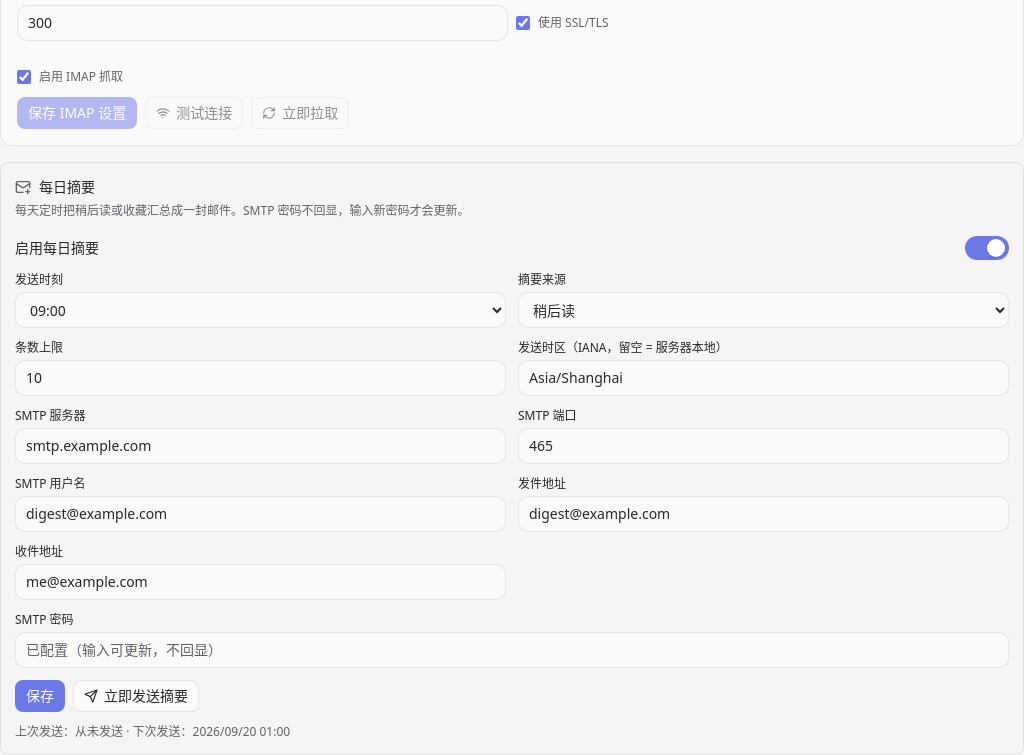
Test case: F008 摘要时区 + 下次发送 › F008: 非法时区 → 后端 422 错误信息原样显示
(page scrolled)
Type "Mars/Base" into the field labelled "发送时区（IANA，留空 = 服务器本地）" at (764, 378), box [518,360,1009,396]
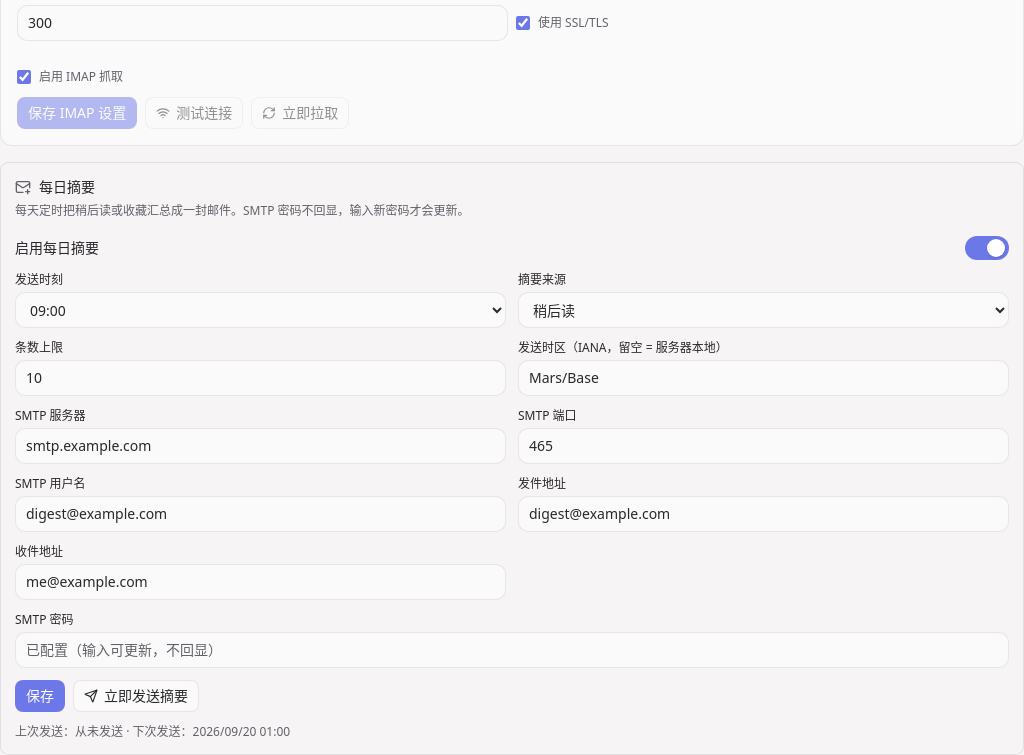
Click the button "保存" at (40, 696), box [15,680,65,712]
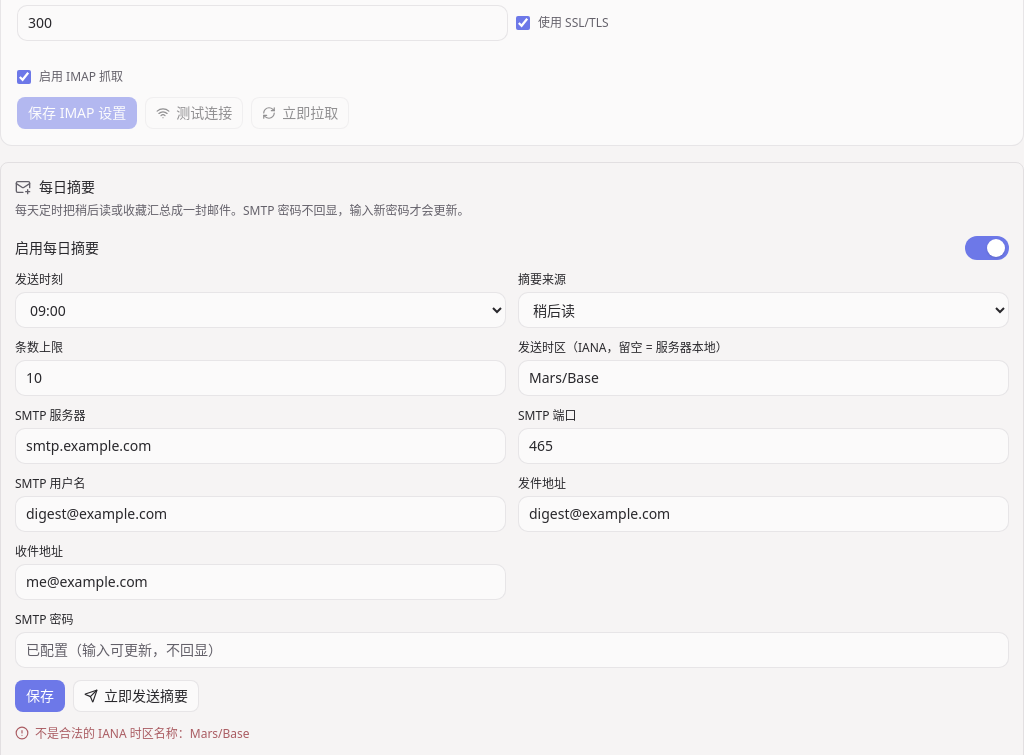
expect the text "不是合法的 IANA 时区名称：Mars/Base" is shown: met, box [15,725,250,742]
